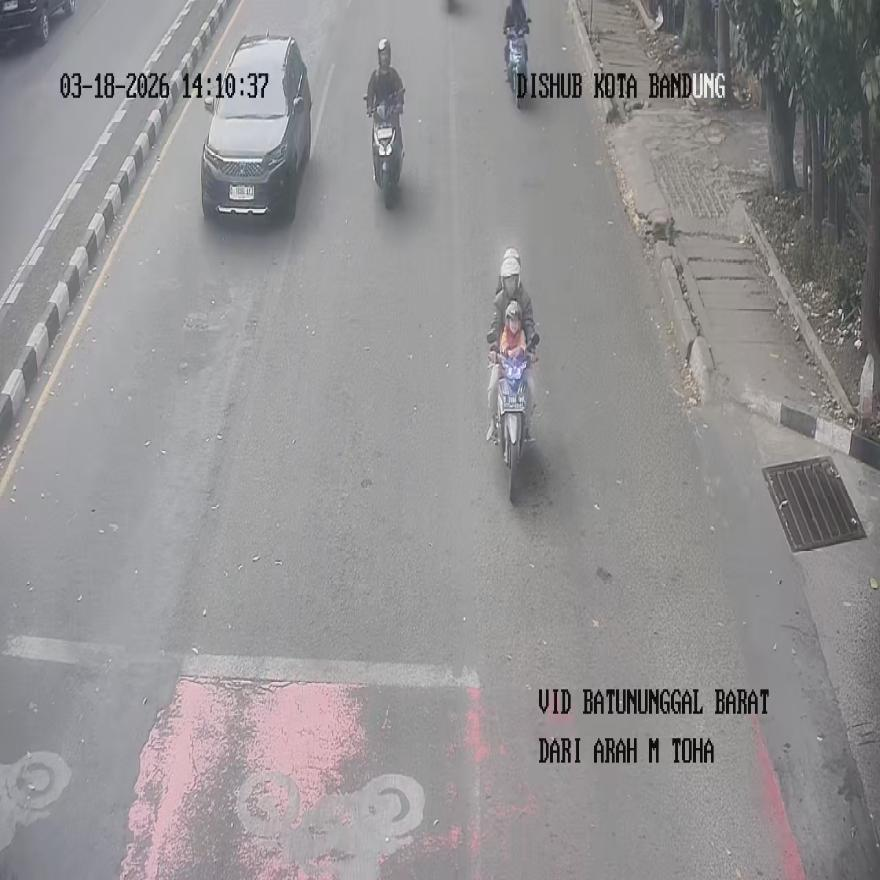Motor: (200, 32, 312, 220)
Truk: (490, 344, 532, 504), (368, 92, 402, 206), (503, 17, 530, 105)
